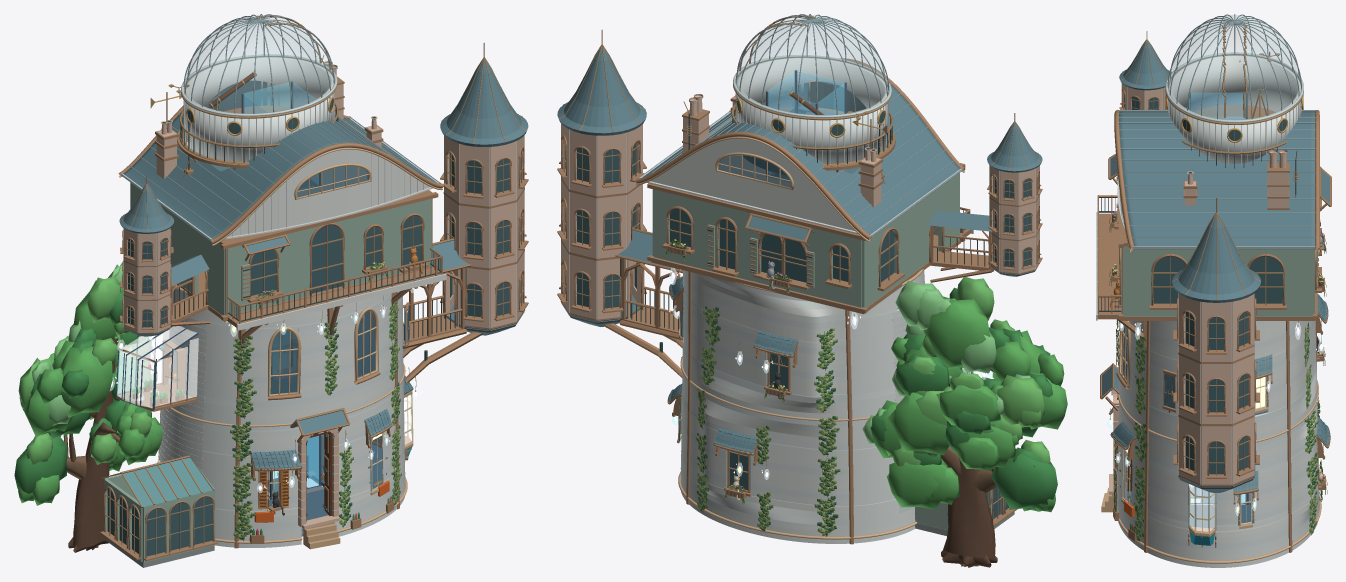
The model's file is mansion-v06-B09QTKqy.glb.
The picture shows the model from 3 angles, left to right: view 1: azimuth 30°, elevation 25°; view 2: azimuth 150°, elevation 25°; view 3: azimuth 270°, elevation 25°; orthographic projection.
Parts seen in each view (by area): view 1: M01_Reuse_TREE_Left_Foliage, M01_Reuse_CURVE_BellGable_SlateRoof, M01_Reuse_ObsDome_Curved, M01_Reuse_CURVE_Observatory_CylindricalDrum, M01_Reuse_CURVE_ArchedGable_PaintedTimber, M01_Tower_WitchHat, M01_Reuse_TREE_Left_Trunk, M01_Conservatory_RoofGlass, M04_WestPassage, M01_GrandBalcony_Deck, M01_Reuse_INT_Slab_Living, M01_Reuse_CURVE_Roof_Soffit (+41 smaller); view 2: M01_Reuse_TREE_Left_Foliage, M01_Reuse_CURVE_BellGable_SlateRoof, M01_Reuse_ObsDome_Curved, M01_Reuse_CURVE_Observatory_CylindricalDrum, M01_Reuse_CURVE_ArchedGable_Rear, M01_Reuse_TREE_Left_Trunk, M01_Tower_WitchHat, M04_WestPassage, M01_Reuse_CURVE_Roof_Soffit, M04_WestTurret_M01_Tower_WitchHat, M01_Reuse_CURVE_Gable_Back_Bargeboard, M03_RearBay_1_Glass (+65 smaller); view 3: M01_Reuse_CURVE_BellGable_SlateRoof, M01_Reuse_CURVE_Observatory_CylindricalDrum, M01_Reuse_ObsDome_Curved, M01_Tower_WitchHat, M01_UpperFloor_Side_L.002, M01_UpperFloor_Side_R.003, M01_GrandBalcony_Deck, M04_WestTurret_M01_Tower_WitchHat, M01_UpperFloor_Side_Glass.004, M05_Elevator_Shaft_Glass_West, M01_UpperFloor_Side_Glass.003, M01_Reuse_CURVE_Right_Clapboard_02 (+83 smaller).
Boxes of the visible parts, x1,y1,x2,y2 form: M01_Reuse_TREE_Left_Foliage: (14,261,162,505); M01_Reuse_CURVE_BellGable_SlateRoof: (122,80,436,240); M01_Reuse_ObsDome_Curved: (184,15,333,113); M01_Reuse_CURVE_Observatory_CylindricalDrum: (184,56,333,161); M01_Reuse_CURVE_ArchedGable_PaintedTimber: (228,147,429,236); M01_Tower_WitchHat: (440,60,528,146); M01_Reuse_TREE_Left_Trunk: (63,338,152,552); M01_Conservatory_RoofGlass: (123,457,215,507); M04_WestPassage: (170,254,210,326); M01_GrandBalcony_Deck: (227,267,440,327); M01_Reuse_INT_Slab_Living: (267,435,382,520); M01_Reuse_CURVE_Roof_Soffit: (121,118,439,240); M01_Reuse_TREE_Left_Foliage: (862,276,1067,512); M01_Reuse_CURVE_BellGable_SlateRoof: (642,81,961,237); M01_Reuse_ObsDome_Curved: (737,15,887,114); M01_Reuse_CURVE_Observatory_CylindricalDrum: (736,57,888,163); M01_Reuse_CURVE_ArchedGable_Rear: (650,136,854,230); M01_Reuse_TREE_Left_Trunk: (941,368,997,567); M01_Tower_WitchHat: (557,47,646,135); M04_WestPassage: (928,210,993,282); M01_Reuse_CURVE_Roof_Soffit: (639,112,962,237); M04_WestTurret_M01_Tower_WitchHat: (987,123,1042,172); M01_Reuse_CURVE_Gable_Back_Bargeboard: (635,132,871,239); M03_RearBay_1_Glass: (761,234,806,282); M01_Reuse_CURVE_BellGable_SlateRoof: (1119,111,1316,249); M01_Reuse_CURVE_Observatory_CylindricalDrum: (1168,55,1300,163); M01_Reuse_ObsDome_Curved: (1169,15,1300,119); M01_Tower_WitchHat: (1172,215,1260,302); M01_UpperFloor_Side_L.002: (1123,246,1152,316); M01_UpperFloor_Side_R.003: (1284,249,1313,316); M01_GrandBalcony_Deck: (1097,213,1118,319); M04_WestTurret_M01_Tower_WitchHat: (1119,41,1171,90); M01_UpperFloor_Side_Glass.004: (1249,256,1282,303); M05_Elevator_Shaft_Glass_West: (1191,93,1245,501); M01_UpperFloor_Side_Glass.003: (1153,256,1185,303); M01_Reuse_CURVE_Right_Clapboard_02: (1147,534,1288,555).
Size of the model in its own units: 36.61 by 35.14 by 14.88.
